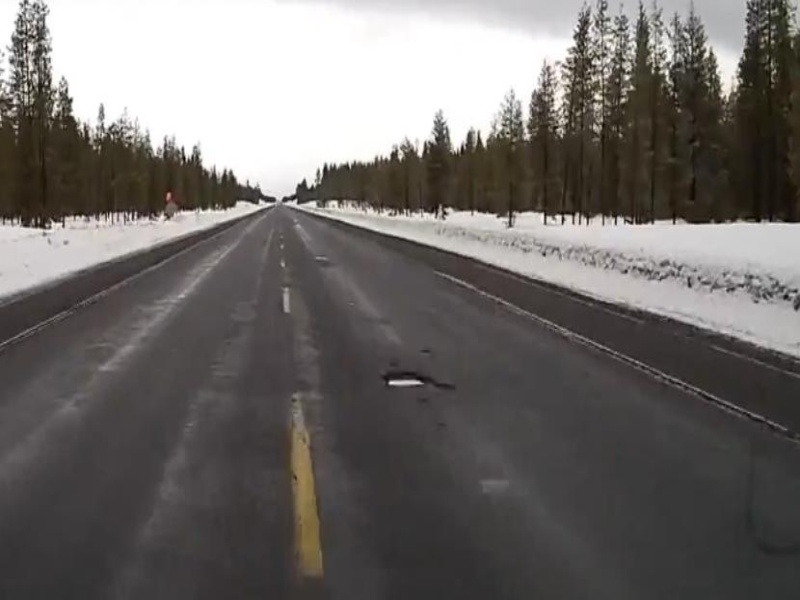pothole: (380, 370, 437, 393)
